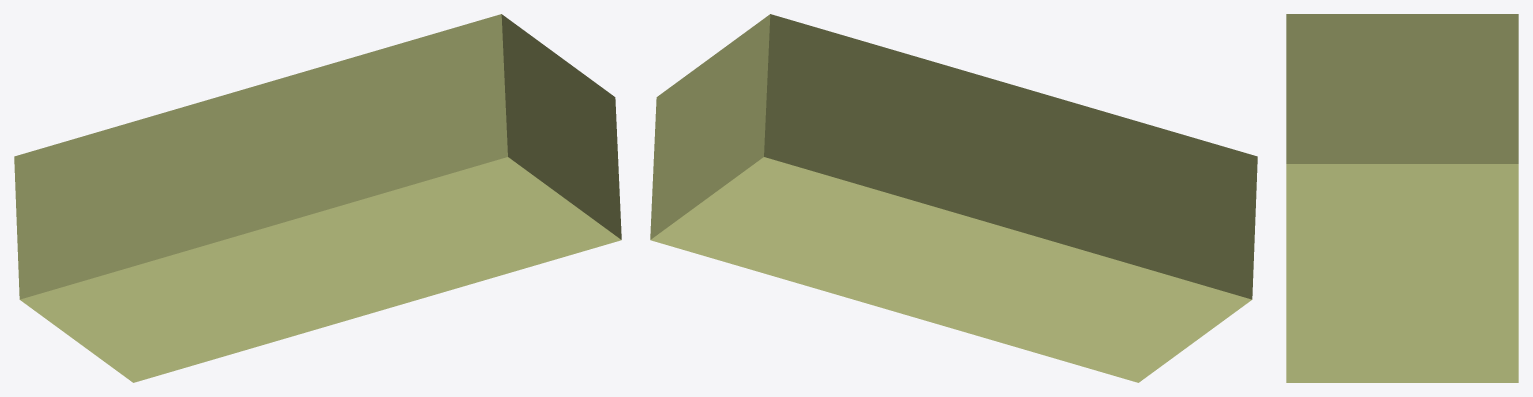
3 renders of one model, left to right at view 1: azimuth 30°, elevation 25°; view 2: azimuth 150°, elevation 25°; view 3: azimuth 270°, elevation 25°, orthographic.
Visible parts, largest first — view 1: 0_0_3_2_1_3_0_1_1_0; view 2: 0_0_3_2_1_3_0_1_1_0; view 3: 0_0_3_2_1_3_0_1_1_0.
Part boxes in pixels (bbox=[...]): 0_0_3_2_1_3_0_1_1_0: bbox=[14, 14, 621, 382]; 0_0_3_2_1_3_0_1_1_0: bbox=[650, 14, 1257, 382]; 0_0_3_2_1_3_0_1_1_0: bbox=[1286, 14, 1518, 382].
Bounding box in the file's own units: 15.04 × 4.89 × 6.
